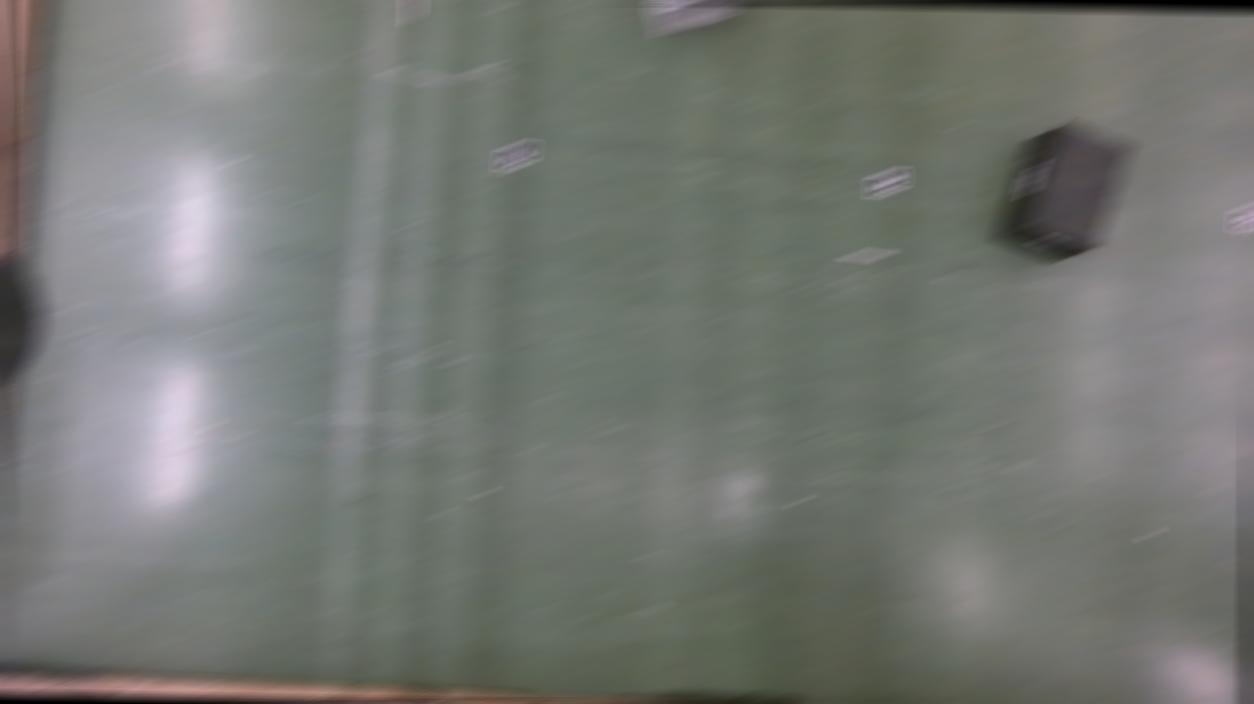rako: (995, 124, 1132, 262)
